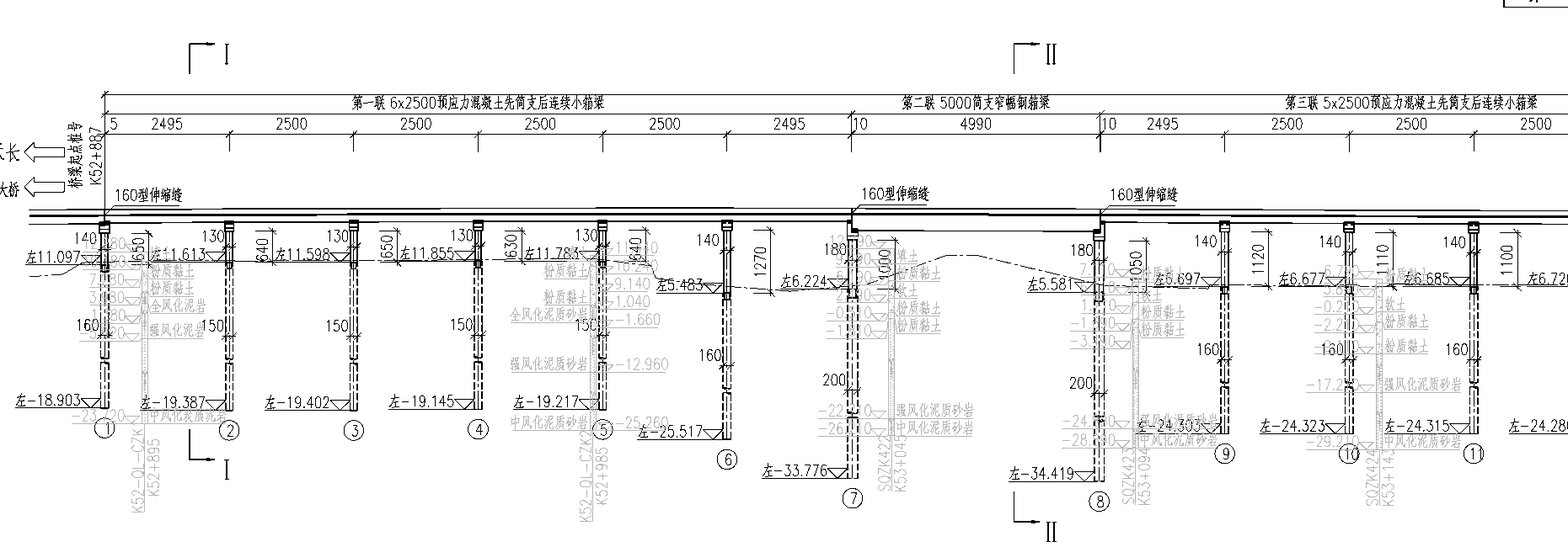C: (1010, 218, 1121, 518), (775, 217, 874, 515), (649, 215, 747, 477), (389, 214, 498, 447), (1395, 216, 1492, 469), (1272, 216, 1368, 469), (1149, 214, 1244, 469), (24, 215, 124, 444), (533, 215, 618, 445), (293, 215, 371, 446), (165, 215, 244, 443)
